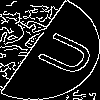U: (25, 25, 98, 80)
